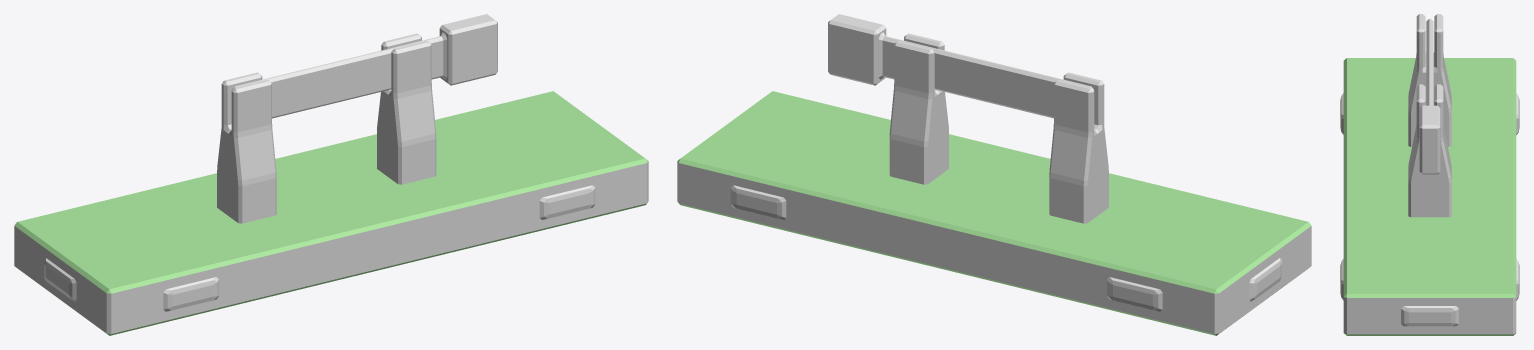
The model's file is switch_block_one_mesh.gltf.
3 views of the same model, side by side, from view 1: azimuth 30°, elevation 25°; view 2: azimuth 150°, elevation 25°; view 3: azimuth 270°, elevation 25° (orthographic). The views are drawn at different scales.
Visible parts, largest first — view 1: switch_block_one_mesh; view 2: switch_block_one_mesh; view 3: switch_block_one_mesh.
Boxes of the visible parts, x1=… form: switch_block_one_mesh: x1=14, y1=14, x2=648, y2=335; switch_block_one_mesh: x1=677, y1=14, x2=1311, y2=335; switch_block_one_mesh: x1=1340, y1=14, x2=1519, y2=335.
Size of the model in its own units: 0.2121 by 0.0669 by 0.0665.
